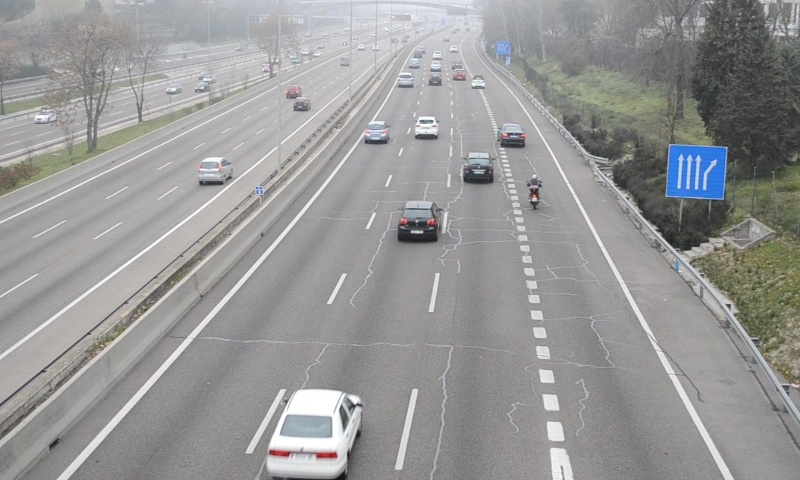car: (262, 388, 362, 480), (396, 200, 441, 242), (463, 153, 494, 183), (497, 122, 526, 147), (363, 120, 390, 144), (414, 116, 440, 138), (396, 72, 413, 88)
motorcycle: (526, 173, 543, 212)
